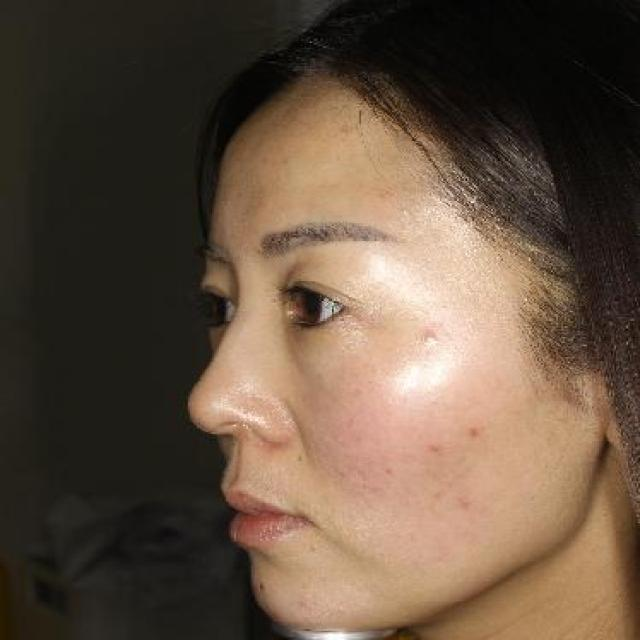dark spot: (460, 417, 493, 445), (428, 438, 450, 454)
papules: (407, 324, 452, 356)
